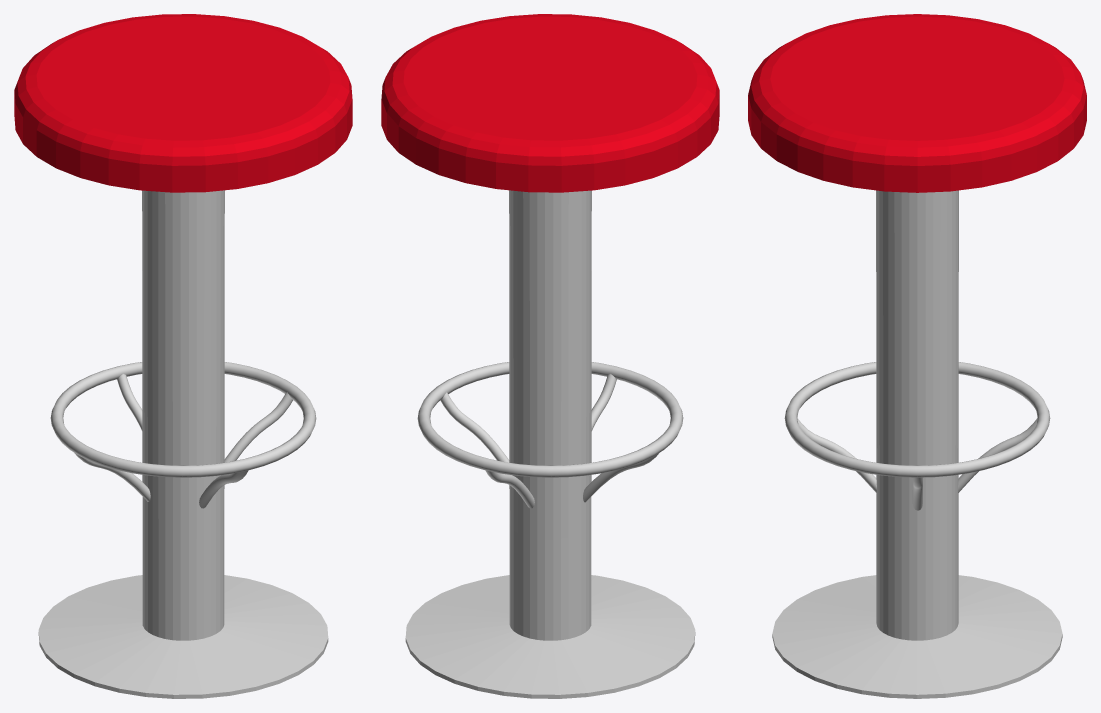
File: bar_tabouret.fbx
The picture shows the model from 3 angles, left to right: view 1: azimuth 30°, elevation 25°; view 2: azimuth 150°, elevation 25°; view 3: azimuth 270°, elevation 25°; orthographic projection.
Parts seen in each view (by area): view 1: Circle, BezierCircle; view 2: Circle, BezierCircle; view 3: Circle, BezierCircle.
Boxes of the visible parts, x1=… form: Circle: x1=14, y1=14, x2=352, y2=698; BezierCircle: x1=50, y1=362, x2=316, y2=508; Circle: x1=381, y1=14, x2=719, y2=698; BezierCircle: x1=417, y1=362, x2=683, y2=508; Circle: x1=748, y1=14, x2=1086, y2=698; BezierCircle: x1=784, y1=362, x2=1050, y2=510.
Bounding box in the file's own units: 38.47 × 70.05 × 38.47.
